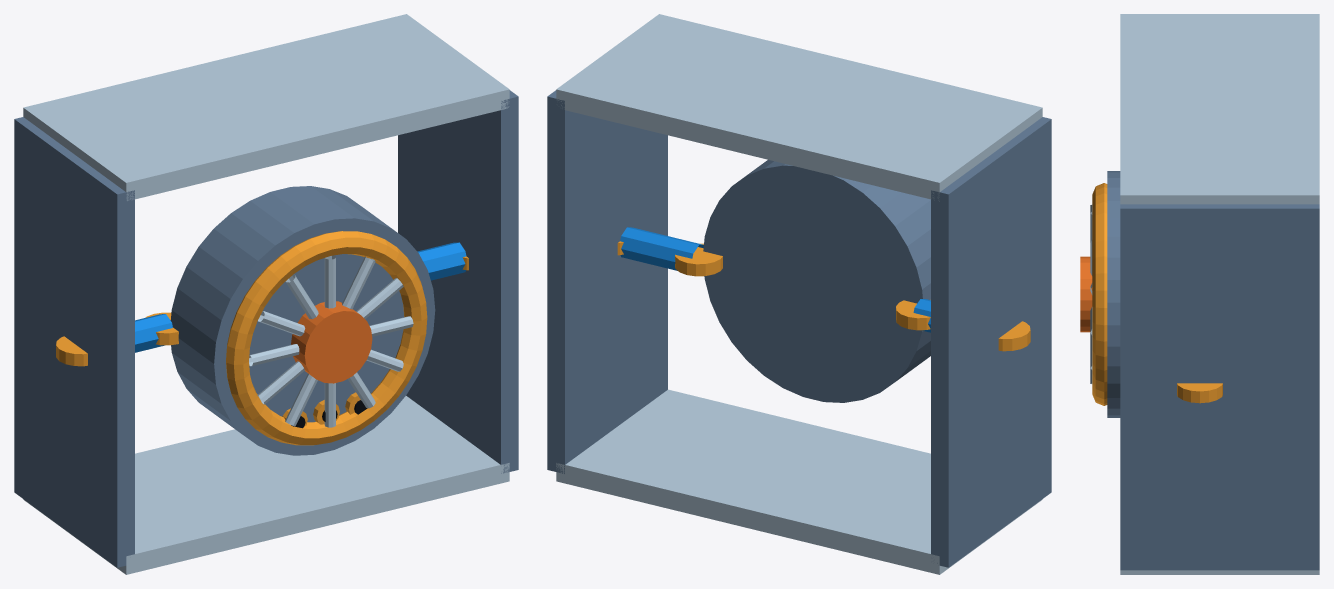
Rendered from 45_L89_WaterTransferPumpA.fbx.
3 views of the same model, side by side, from view 1: azimuth 30°, elevation 25°; view 2: azimuth 150°, elevation 25°; view 3: azimuth 270°, elevation 25° (orthographic). The views are drawn at different scales.
Parts seen in each view (by area): view 1: L87_WaterTransferPumpA_Part_0000, L87_WaterTransferPumpA_Part_0001, L87_WaterTransferPumpA_Part_0002, L87_WaterTransferPumpA_Part_0004, L87_WaterTransferPumpA_Part_0003, L87_WaterTransferPumpA_Part_0005; view 2: L87_WaterTransferPumpA_Part_0000, L87_WaterTransferPumpA_Part_0001, L87_WaterTransferPumpA_Part_0002, L87_WaterTransferPumpA_Part_0005; view 3: L87_WaterTransferPumpA_Part_0000, L87_WaterTransferPumpA_Part_0001, L87_WaterTransferPumpA_Part_0002, L87_WaterTransferPumpA_Part_0003, L87_WaterTransferPumpA_Part_0004.
Boxes of the visible parts, x1,y1,x2,y2 form: L87_WaterTransferPumpA_Part_0000: [14, 90, 518, 567]; L87_WaterTransferPumpA_Part_0001: [23, 14, 509, 574]; L87_WaterTransferPumpA_Part_0002: [56, 231, 468, 445]; L87_WaterTransferPumpA_Part_0004: [249, 255, 413, 427]; L87_WaterTransferPumpA_Part_0003: [291, 301, 372, 383]; L87_WaterTransferPumpA_Part_0005: [135, 242, 466, 352]; L87_WaterTransferPumpA_Part_0000: [547, 90, 1051, 567]; L87_WaterTransferPumpA_Part_0001: [556, 14, 1042, 574]; L87_WaterTransferPumpA_Part_0002: [617, 241, 1030, 351]; L87_WaterTransferPumpA_Part_0005: [620, 227, 930, 332]; L87_WaterTransferPumpA_Part_0000: [1107, 171, 1319, 570]; L87_WaterTransferPumpA_Part_0001: [1120, 14, 1319, 574]; L87_WaterTransferPumpA_Part_0002: [1092, 183, 1222, 405]; L87_WaterTransferPumpA_Part_0003: [1080, 256, 1092, 332]; L87_WaterTransferPumpA_Part_0004: [1090, 205, 1092, 383].
Bounding box in the file's own units: 244 × 210 × 120.
